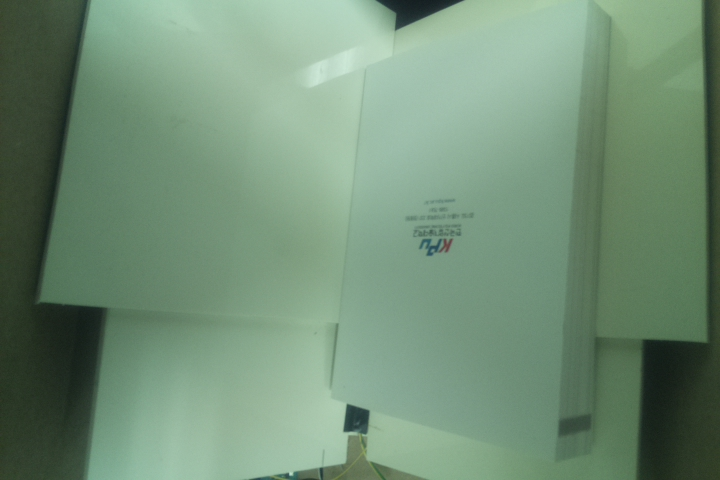book: (327, 2, 620, 464)
